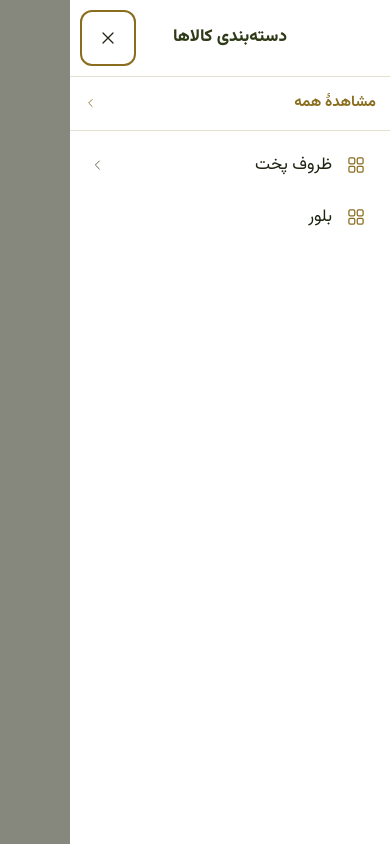
mega menu mobile sheet › drills down with a back arrow and a per-level all-link
Click the button "ظروف پخت". click: (294, 164)
box: 78,138 -> 382,191
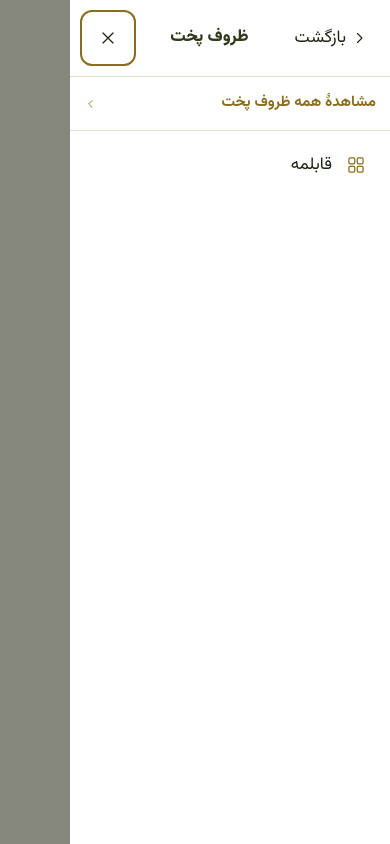
expect the button "بازگشت" is shown: met
expect the heading "ظروف پخت" is shown: met, box 170,24 -> 248,50
Note: «بازگشت» returns to the top level.
Click the button "بازگشت". click: (331, 38)
box: 287,14 -> 376,62
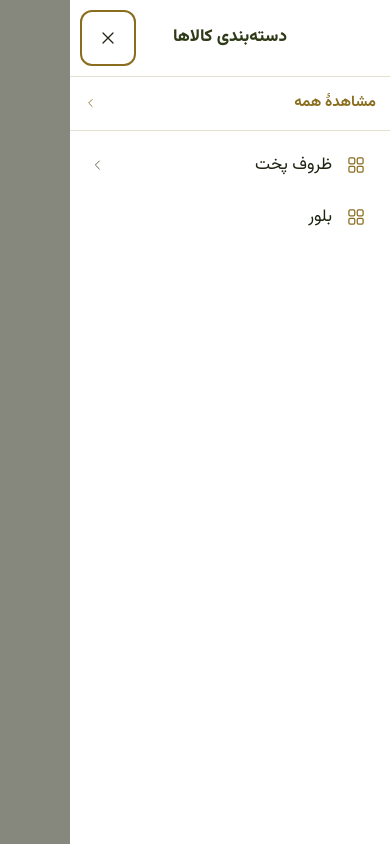
expect the button "بازگشت" is gone: met
